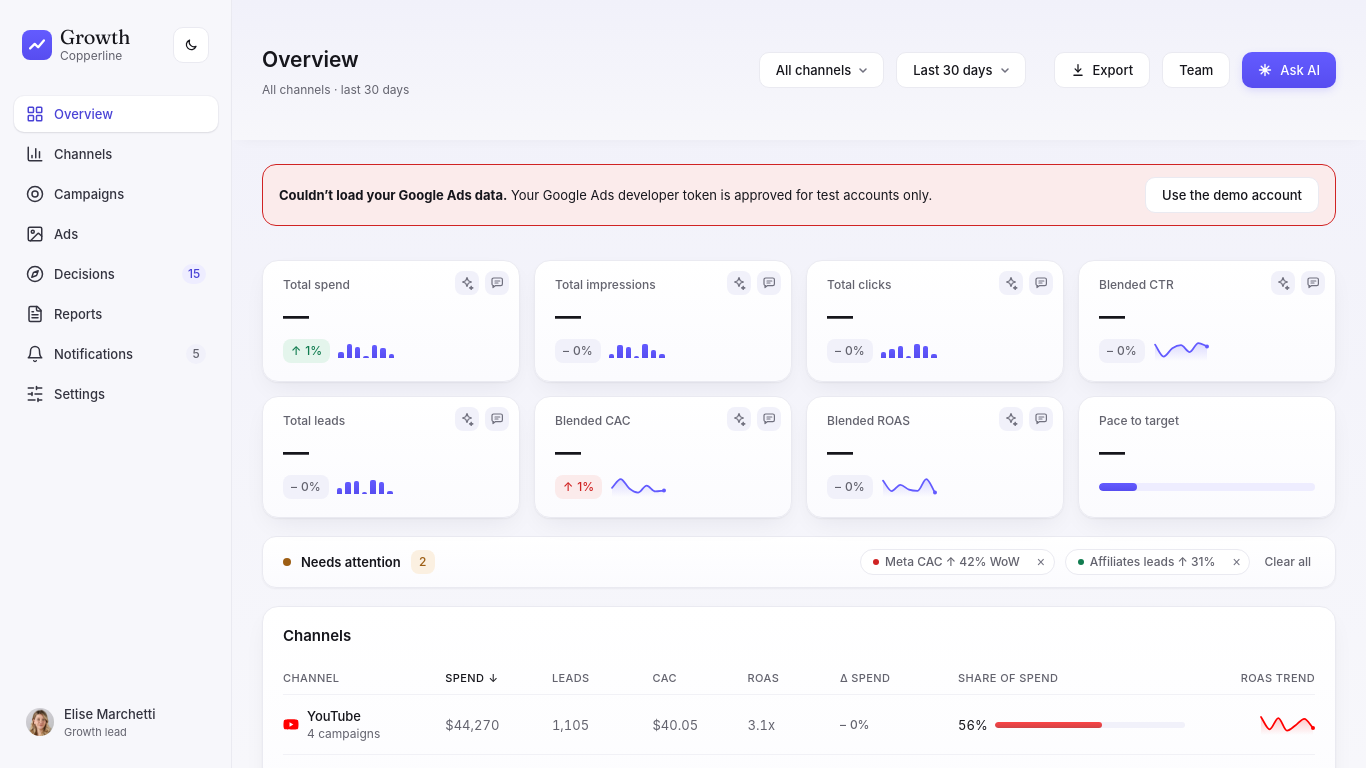
the product on a real Google Ads account › a failed load names Google Ads and offers the way back
expect the message shows "Couldn.t load your Google Ads data": met, box [262,164,1336,226]
expect the message shows "test accounts only": met, box [511,187,932,203]
Click the button "Use the demo account". click: point(1232, 195)
box: [1145,177,1319,213]
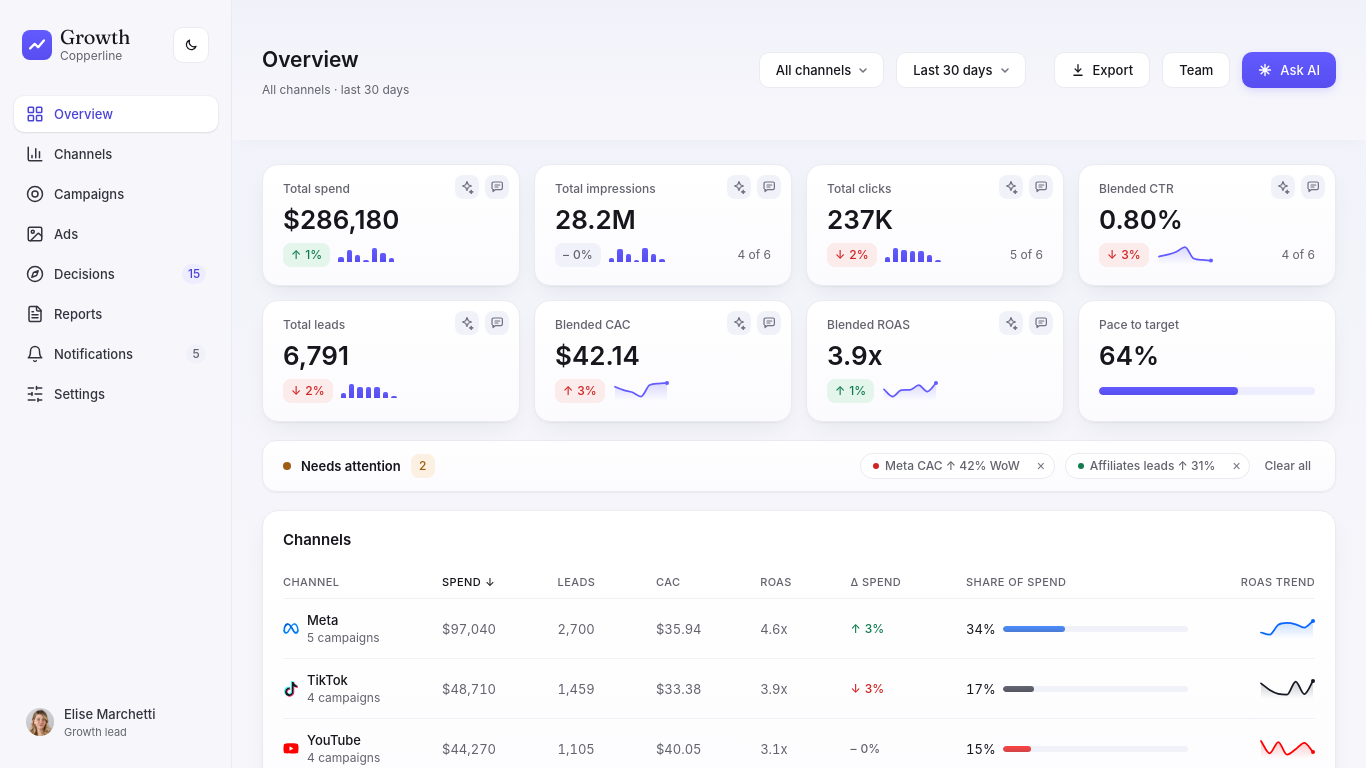
expect the text "test accounts only" is gone: met
